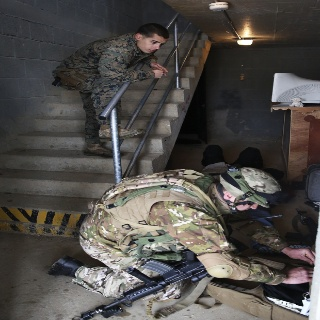rifle: (74, 249, 214, 320)
